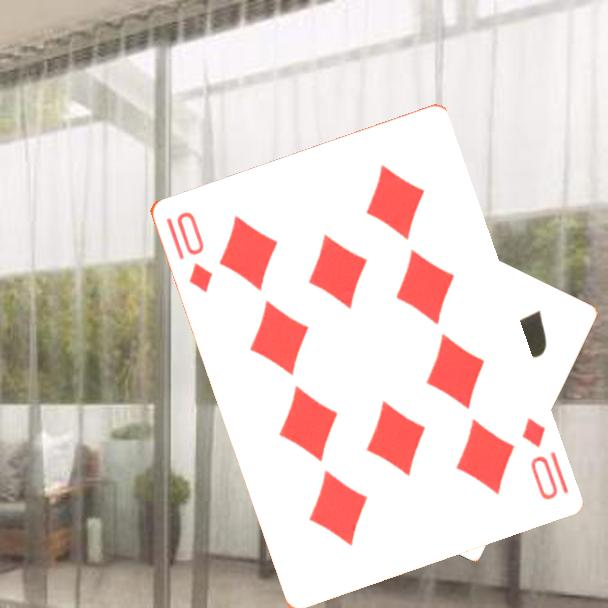d10: (517, 413, 571, 503), (172, 207, 215, 296)
